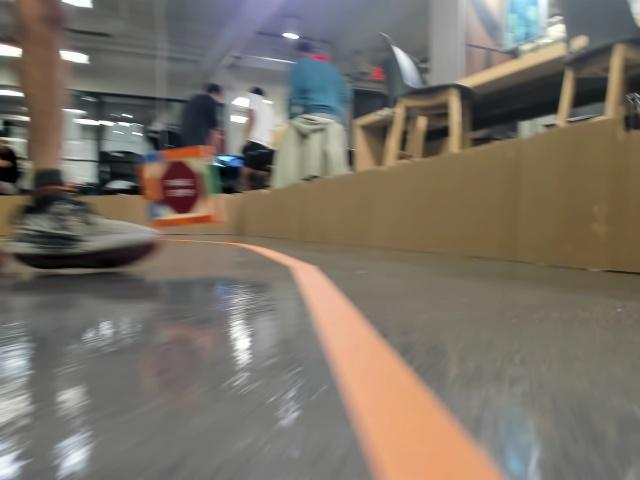Fake Stop: (157, 161, 196, 214)
